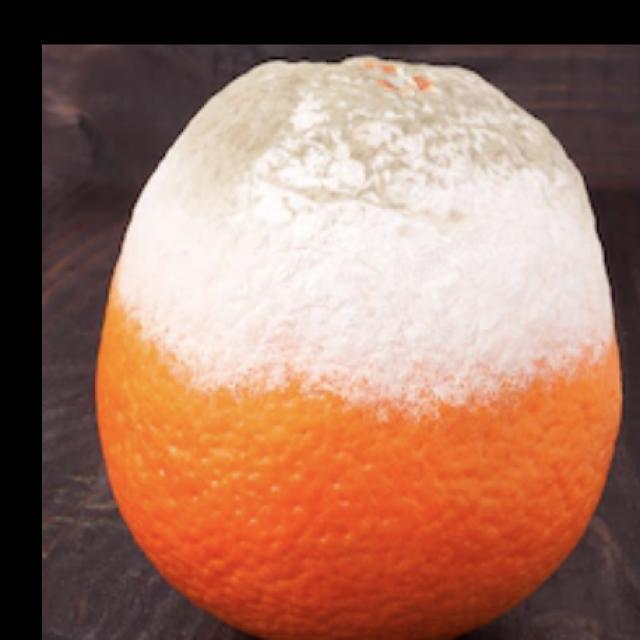sangat-busuk: (118, 57, 611, 399)
